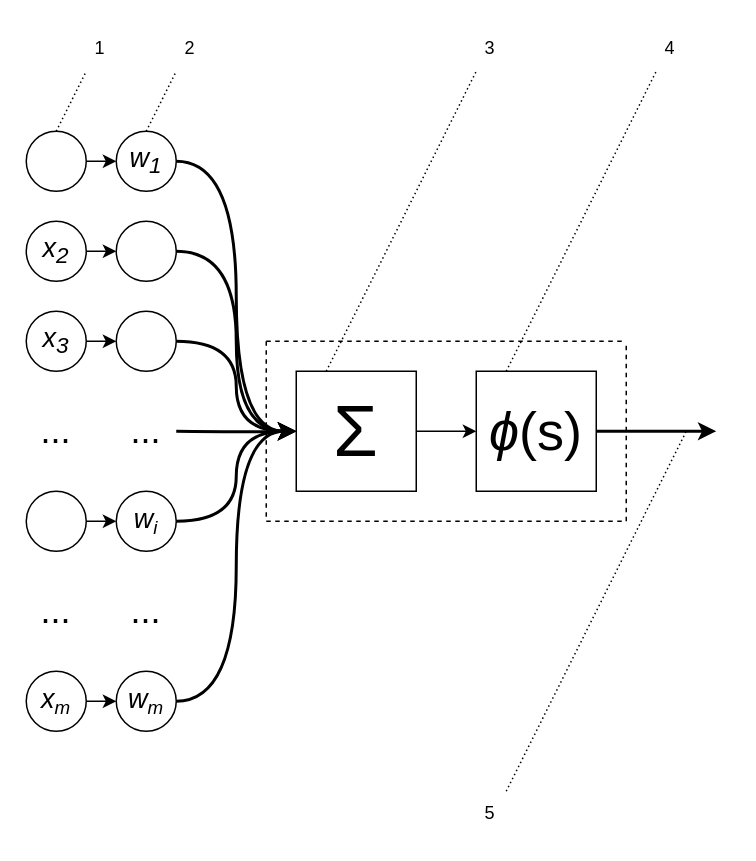
This 756x861 diagram has some shape labels left out. Here are the shapes that lost their labels. From the top down, the centre of each, then its label:
At pixel 55 160: "x 1".
At pixel 145 250: "w 2".
At pixel 145 340: "w 3".
At pixel 55 520: "x i".
